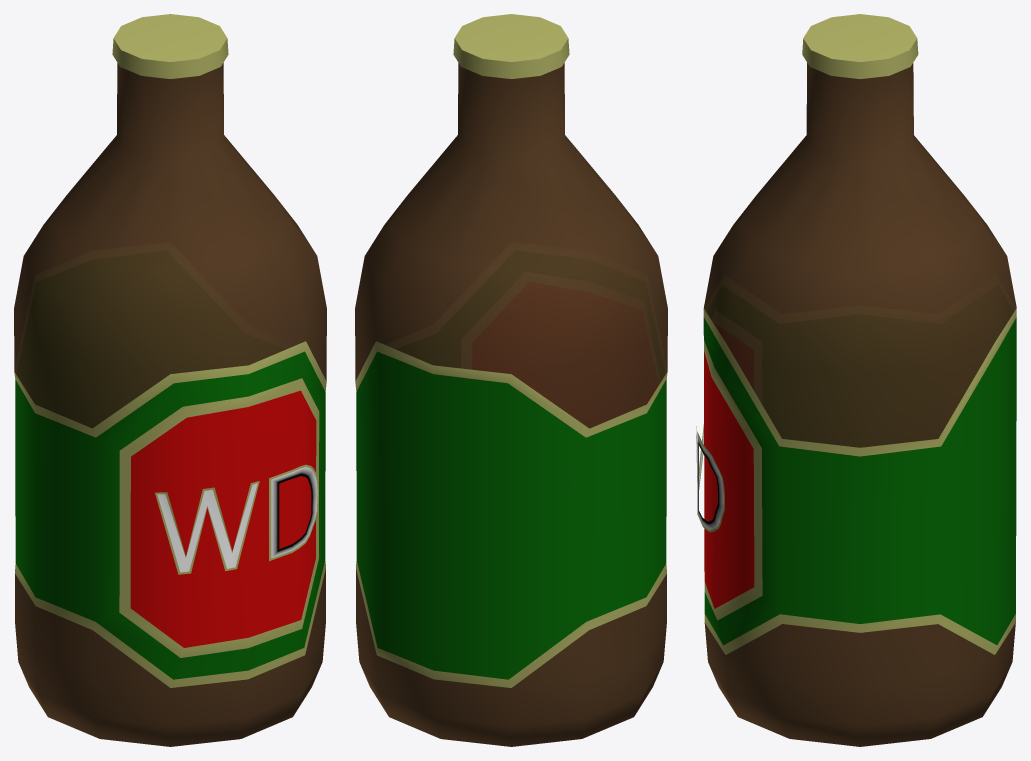
File: WW_beer_bottle.fbx
3 renders of one model, left to right at view 1: azimuth 30°, elevation 25°; view 2: azimuth 150°, elevation 25°; view 3: azimuth 270°, elevation 25°, orthographic.
Parts seen in each view (by area): view 1: beer_bottle_geo, wdtext; view 2: beer_bottle_geo; view 3: beer_bottle_geo, wdtext.
Boxes of the visible parts, x1,y1,x2,y2 form: beer_bottle_geo: (14,14,326,746); wdtext: (155,464,318,574); beer_bottle_geo: (355,14,667,746); beer_bottle_geo: (703,14,1016,746); wdtext: (696,424,724,532).
Bounding box in the file's own units: 2.59 × 6.02 × 2.65.
